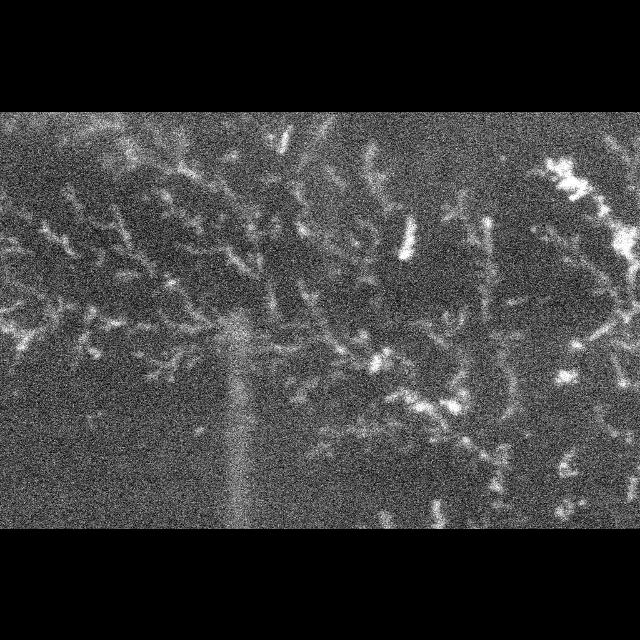dendrites: (2, 113, 535, 525), (529, 132, 640, 389), (440, 185, 498, 322), (482, 326, 526, 428), (310, 414, 408, 457), (285, 369, 341, 403), (595, 401, 634, 442), (397, 214, 418, 259), (553, 498, 586, 520), (559, 445, 579, 478), (2, 234, 33, 254), (277, 124, 293, 154), (554, 367, 579, 384), (432, 499, 446, 528), (378, 508, 395, 528), (628, 475, 638, 500)
